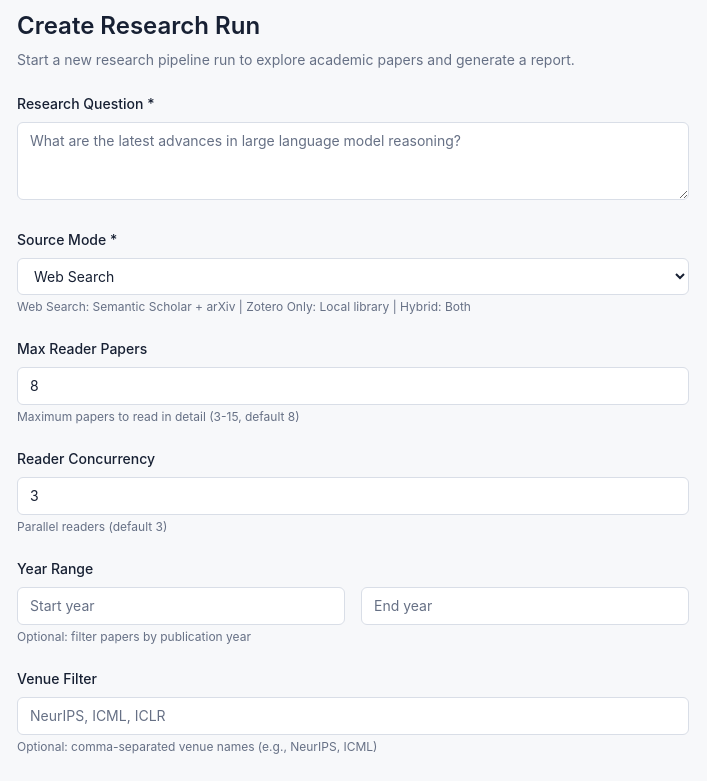
Scenario: NewRunPage › shows collection selector when Zotero mode is selected
// Switch to Zotero mode
Select "Zotero Only" in the dropdown labelled "Source Mode *". click: x=353, y=276
box: [17,258,689,295]
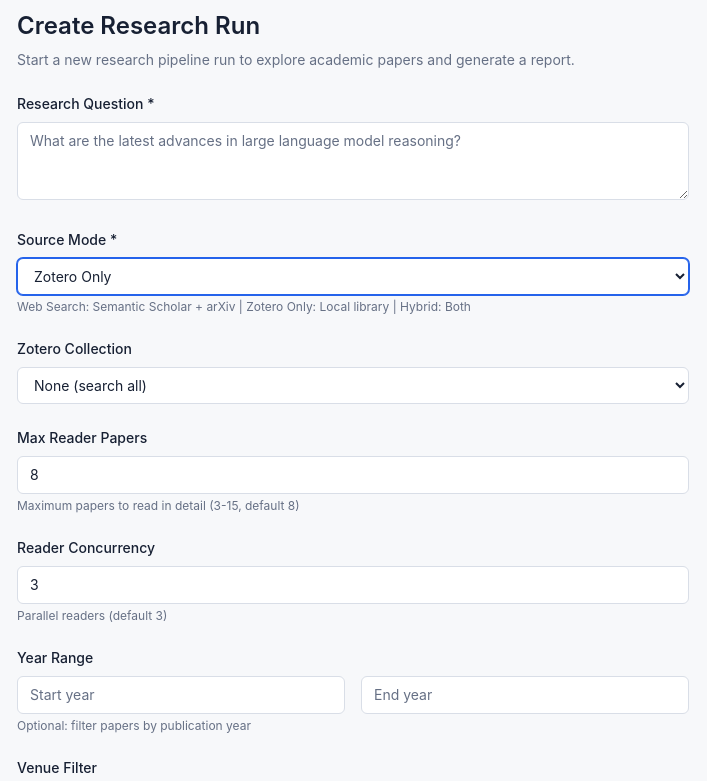
Now the dropdown labelled "Zotero Collection" is shown, box [17,367,689,404]
